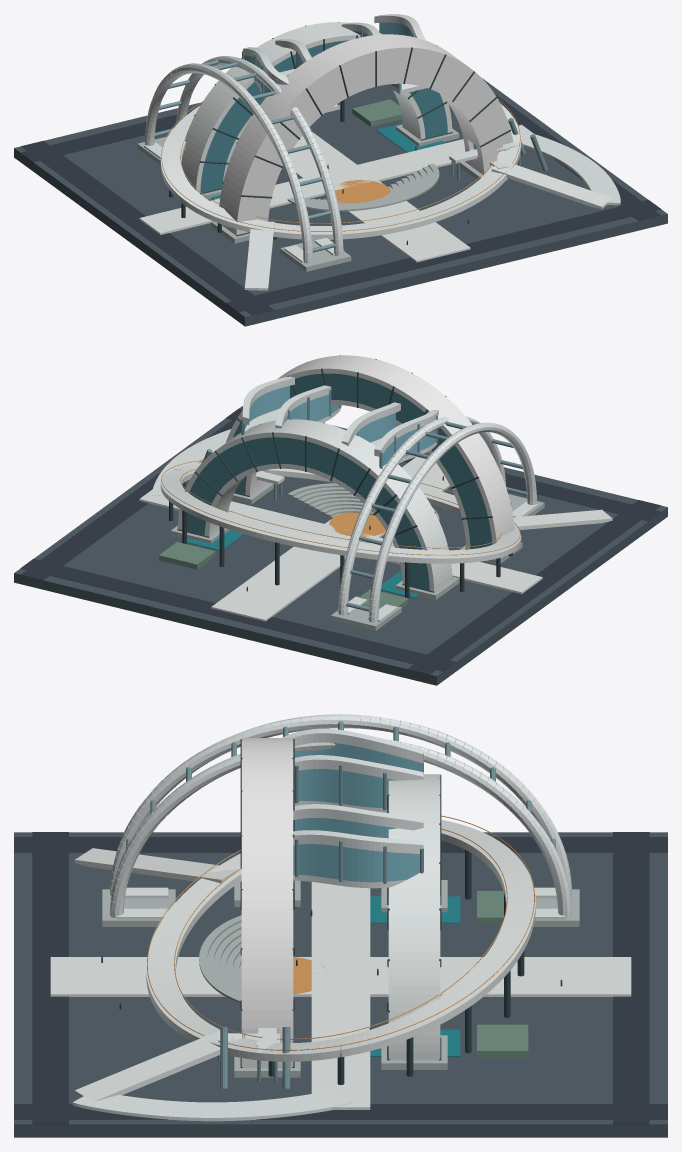
Rendered from a9_orbital_commons_sculpted_route_study.glb.
The picture shows the model from 3 angles, top to bottom: view 1: azimuth 30°, elevation 25°; view 2: azimuth 150°, elevation 25°; view 3: azimuth 270°, elevation 25°; orthographic projection. The views are drawn at different scales.
Parts seen in each view (by area): view 1: District base, SOUTH continuous glazed occupied band_A9_FLARED, SOUTH outer load shell_A7_PORTAL_A9_FLARED, Continuous elliptical public promenade, E-W road, NORTH outer load shell, Public ground, continuous E-W axis, N-S road, Public ground, continuous N-S axis, NORTH continuous glazed occupied band, SOUTH inner load shell_A7_PORTAL, A7_APPROACH_CURVED_DECK (+13 smaller); view 2: District base, Continuous elliptical public promenade, SOUTH outer load shell_A7_PORTAL_A9_FLARED, NORTH continuous glazed occupied band.001, NORTH outer load shell, Public ground, continuous N-S axis, E-W road.001, SOUTH continuous glazed occupied band.001, N-S road, Public ground, continuous E-W axis, N-S road.001, E-W road (+15 smaller); view 3: District base, Continuous elliptical public promenade, SOUTH outer load shell_A7_PORTAL_A9_FLARED, Public ground, continuous N-S axis, NORTH outer load shell, Public ground, continuous E-W axis, E-W road, E-W road.001, N-S road.001, A7_APPROACH_CURVED_DECK, N-S road, A6_CURVED_SKY_EAST_RIGHTGLASS (+19 smaller).
Boxes of the visible parts, <box> form: District base: <box>14,45,667,326</box>; SOUTH continuous glazed occupied band_A9_FLARED: <box>241,52,508,233</box>; SOUTH outer load shell_A7_PORTAL_A9_FLARED: <box>219,34,513,235</box>; Continuous elliptical public promenade: <box>160,103,521,239</box>; E-W road: <box>226,199,661,312</box>; NORTH outer load shell: <box>181,22,452,193</box>; Public ground, continuous E-W axis: <box>139,124,533,234</box>; N-S road: <box>21,141,273,315</box>; Public ground, continuous N-S axis: <box>289,132,470,262</box>; NORTH continuous glazed occupied band: <box>200,40,447,193</box>; SOUTH inner load shell_A7_PORTAL: <box>264,79,488,221</box>; A7_APPROACH_CURVED_DECK: <box>520,131,620,205</box>; District base: <box>14,406,667,685</box>; Continuous elliptical public promenade: <box>160,462,521,563</box>; SOUTH outer load shell_A7_PORTAL_A9_FLARED: <box>226,355,514,544</box>; NORTH continuous glazed occupied band.001: <box>187,437,429,590</box>; NORTH outer load shell: <box>177,419,452,591</box>; Public ground, continuous N-S axis: <box>211,456,450,621</box>; E-W road.001: <box>20,558,455,671</box>; SOUTH continuous glazed occupied band.001: <box>233,373,492,549</box>; N-S road: <box>408,500,660,674</box>; Public ground, continuous E-W axis: <box>139,489,542,594</box>; N-S road.001: <box>21,420,235,580</box>; E-W road: <box>226,408,661,521</box>; District base: <box>14,832,667,1137</box>; Continuous elliptical public promenade: <box>146,819,535,1061</box>; SOUTH outer load shell_A7_PORTAL_A9_FLARED: <box>241,738,293,1067</box>; Public ground, continuous N-S axis: <box>50,957,631,996</box>; NORTH outer load shell: <box>388,774,440,1060</box>; Public ground, continuous E-W axis: <box>311,882,370,1109</box>; E-W road: <box>32,832,68,1124</box>; E-W road.001: <box>613,832,649,1124</box>; N-S road.001: <box>14,1104,667,1119</box>; A7_APPROACH_CURVED_DECK: <box>72,1090,351,1121</box>; N-S road: <box>14,837,667,852</box>; A6_CURVED_SKY_EAST_RIGHTGLASS: <box>293,844,419,882</box>.
Bounding box in the file's own units: 188 × 70 × 178.
